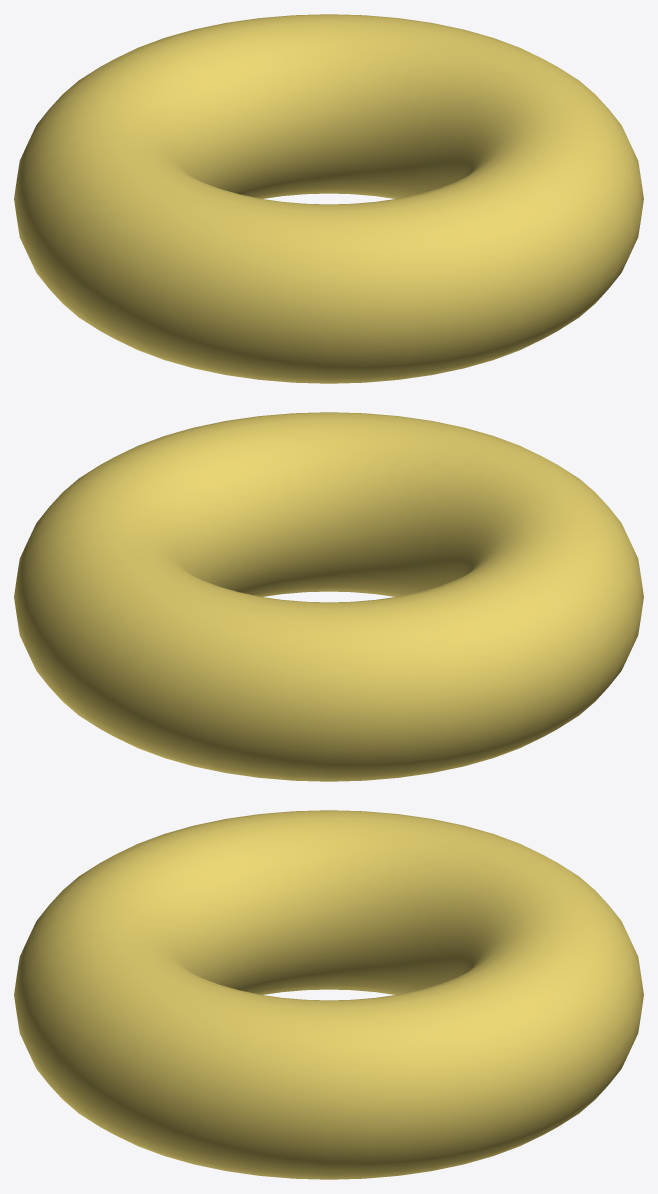
3 views of the same model, one above another, from view 1: azimuth 30°, elevation 25°; view 2: azimuth 150°, elevation 25°; view 3: azimuth 270°, elevation 25° (orthographic).
Visible parts, largest first — view 1: spin; view 2: spin; view 3: spin.
Part boxes in pixels (x1,y1,x2,y2): spin: (14, 14, 643, 383); spin: (14, 412, 643, 781); spin: (14, 810, 643, 1179).
Size of the model in its own units: 2.8 by 0.8 by 2.8.
